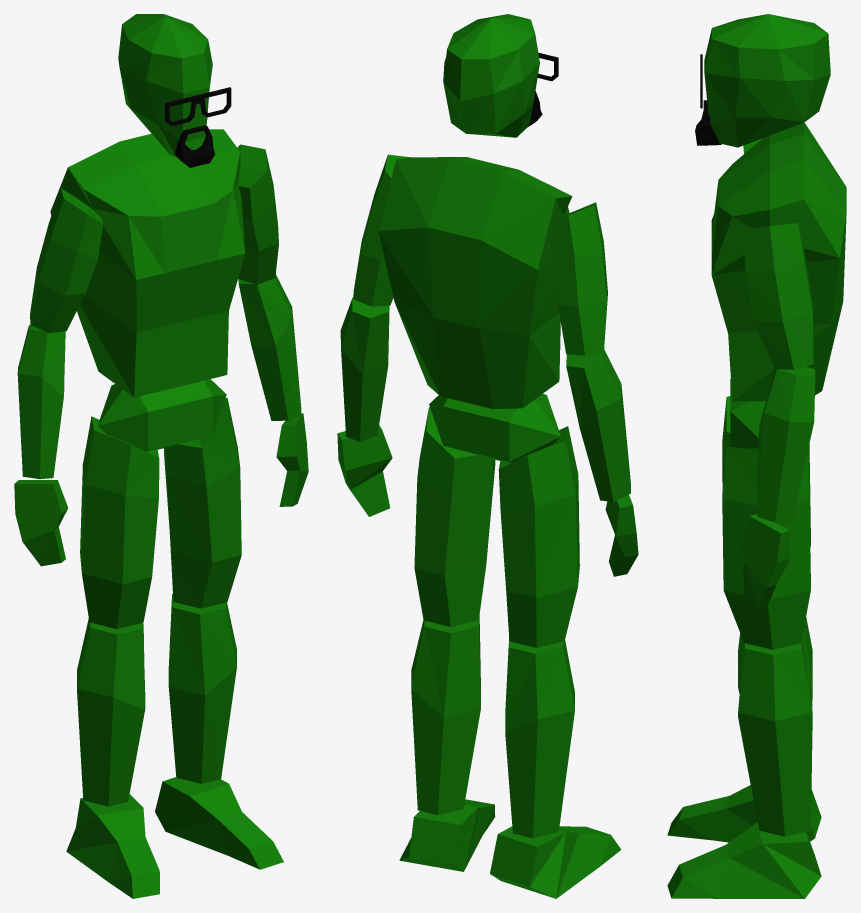
File: info_player_start.glb
3 views of the same model, side by side, from view 1: azimuth 30°, elevation 25°; view 2: azimuth 150°, elevation 25°; view 3: azimuth 270°, elevation 25° (orthographic). The views are drawn at different scales.
Visible parts, largest first — view 1: Material2, Material3; view 2: Material2; view 3: Material2, Material3.
Boxes of the visible parts, x1=… form: Material2: x1=14, y1=14, x2=308, y2=898; Material3: x1=165, y1=87, x2=231, y2=167; Material2: x1=337, y1=14, x2=638, y2=898; Material2: x1=667, y1=14, x2=846, y2=898; Material3: x1=695, y1=54, x2=721, y2=145.
Bounding box in the file's own units: 26.25 × 71.27 × 13.63.
